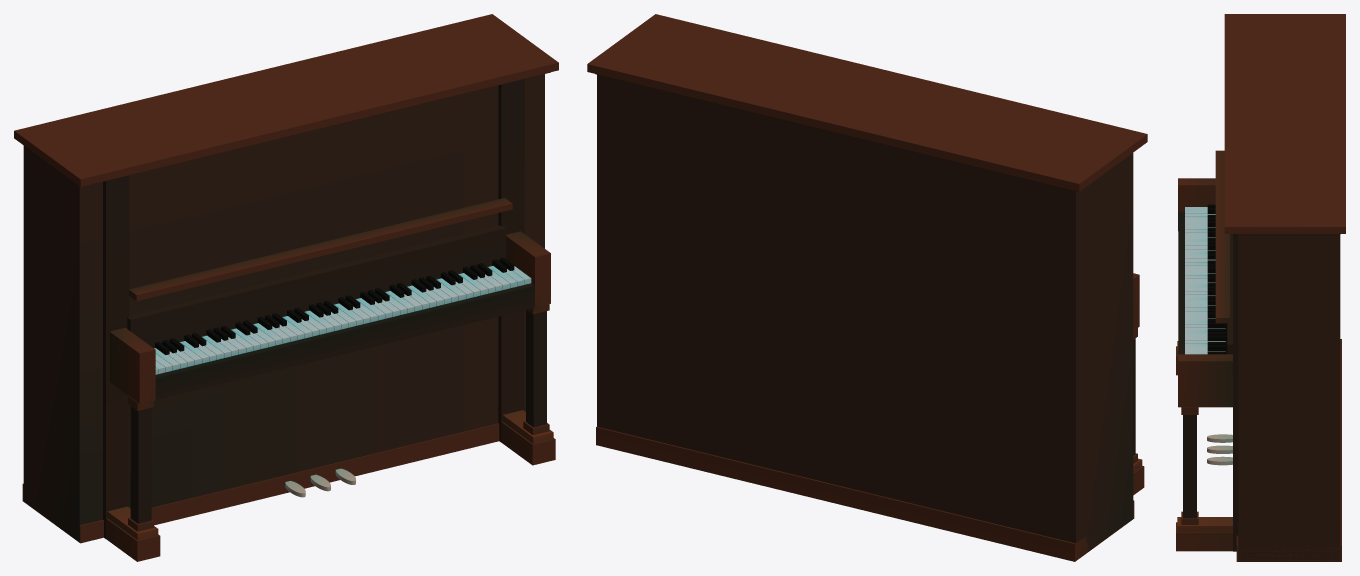
3 renders of one model, left to right at view 1: azimuth 30°, elevation 25°; view 2: azimuth 150°, elevation 25°; view 3: azimuth 270°, elevation 25°, orthographic. The views are drawn at different scales.
Parts seen in each view (by area): view 1: cabinet, lid, fallboard, key_bed, stile.001, plinth, stile, panel_border, cheek.001, column.001, column, cheek (+4 smaller); view 2: cabinet, lid, plinth; view 3: cabinet, lid, cheek, panel_border, stile, column, foot, cheek.001, plinth, key_bed, foot_cap, fallboard.
Part boxes in pixels (x1=…): cabinet: x1=23, y1=74, x2=544, y2=542; lid: x1=14, y1=14, x2=558, y2=186; fallboard: x1=127, y1=225, x2=506, y2=347; key_bed: x1=155, y1=283, x2=534, y2=399; stile.001: x1=103, y1=175, x2=129, y2=538; plinth: x1=22, y1=423, x2=499, y2=543; stile: x1=498, y1=79, x2=524, y2=442; panel_border: x1=129, y1=198, x2=512, y2=300; cheek.001: x1=109, y1=327, x2=155, y2=403; column.001: x1=130, y1=406, x2=151, y2=523; column: x1=526, y1=309, x2=546, y2=427; cheek: x1=506, y1=231, x2=550, y2=307; cabinet: x1=597, y1=74, x2=1133, y2=557; lid: x1=587, y1=14, x2=1147, y2=191; plinth: x1=596, y1=426, x2=1134, y2=561; cabinet: x1=1238, y1=234, x2=1340, y2=561; lid: x1=1224, y1=14, x2=1345, y2=233; cheek: x1=1178, y1=354, x2=1232, y2=407; panel_border: x1=1215, y1=150, x2=1229, y2=323; stile: x1=1233, y1=234, x2=1238, y2=551; column: x1=1183, y1=415, x2=1196, y2=518; foot: x1=1176, y1=522, x2=1232, y2=551; cheek.001: x1=1178, y1=178, x2=1215, y2=230; plinth: x1=1236, y1=339, x2=1341, y2=561; key_bed: x1=1178, y1=211, x2=1226, y2=354; foot_cap: x1=1177, y1=517, x2=1232, y2=531; fallboard: x1=1227, y1=234, x2=1232, y2=354.
Bounding box in the file's own units: 1.5 × 1.11 × 0.506.
